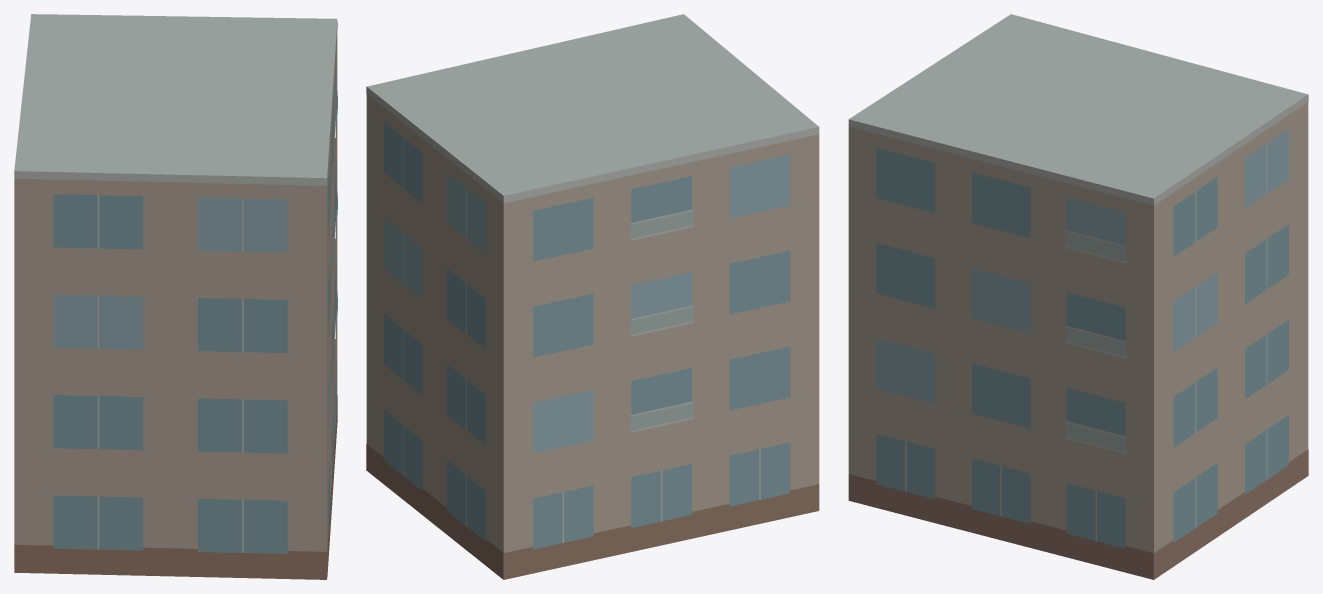
The model's file is survey-upis-33047650.glb.
The picture shows the model from 3 angles, left to right: view 1: azimuth 30°, elevation 25°; view 2: azimuth 150°, elevation 25°; view 3: azimuth 270°, elevation 25°; orthographic projection. The views are drawn at different scales.
Parts seen in each view (by area): view 1: survey-upis-33047650.tmp; view 2: survey-upis-33047650.tmp; view 3: survey-upis-33047650.tmp.
Boxes of the visible parts, left/top/right/bottom form: survey-upis-33047650.tmp: left=14, top=14, right=337, bottom=579; survey-upis-33047650.tmp: left=366, top=14, right=819, bottom=579; survey-upis-33047650.tmp: left=848, top=14, right=1308, bottom=579.
Size of the model in its own units: 13.3 by 12.8 by 14.
